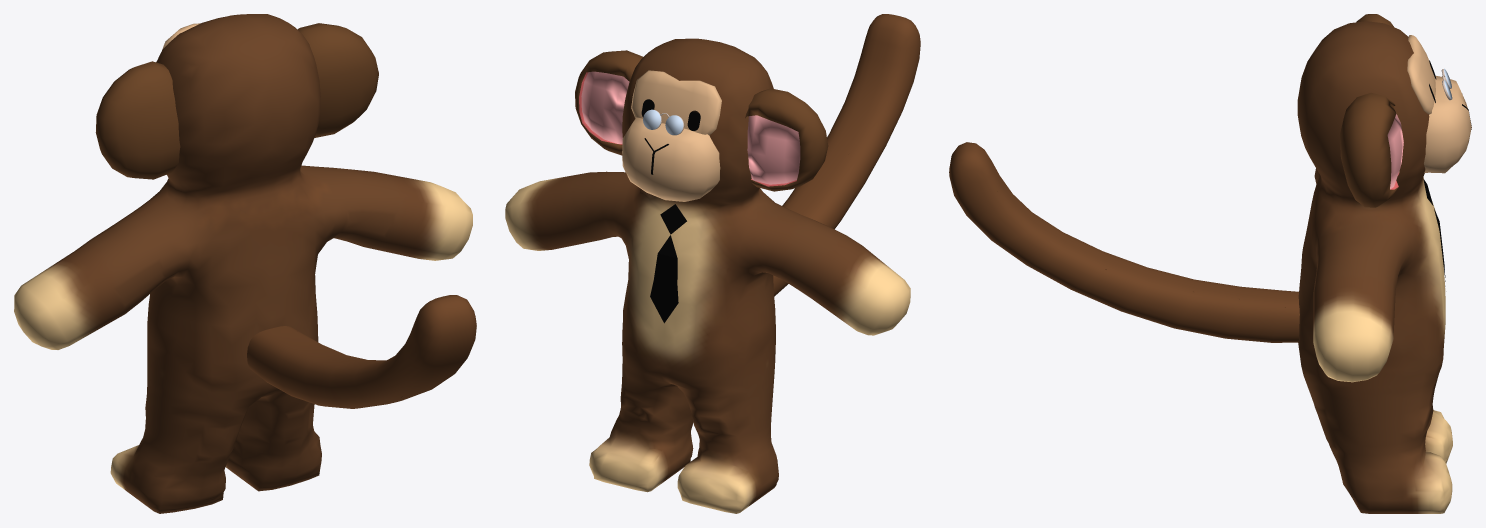
The model's file is Marv10 1.fbx.
3 renders of one model, left to right at view 1: azimuth 30°, elevation 25°; view 2: azimuth 150°, elevation 25°; view 3: azimuth 270°, elevation 25°, orthographic. The views are drawn at different scales.
Visible parts, largest first — view 1: Bear; view 2: Bear, Glass; view 3: Bear.
Part boxes in pixels (<box>): Bear: <box>14,14,476,513</box>; Bear: <box>505,14,920,513</box>; Glass: <box>643,109,684,135</box>; Bear: <box>949,14,1471,513</box>.
Bounding box in the file's own units: 2.13 × 2.32 × 2.17.
Materials: 4 (2 with a texture image).
